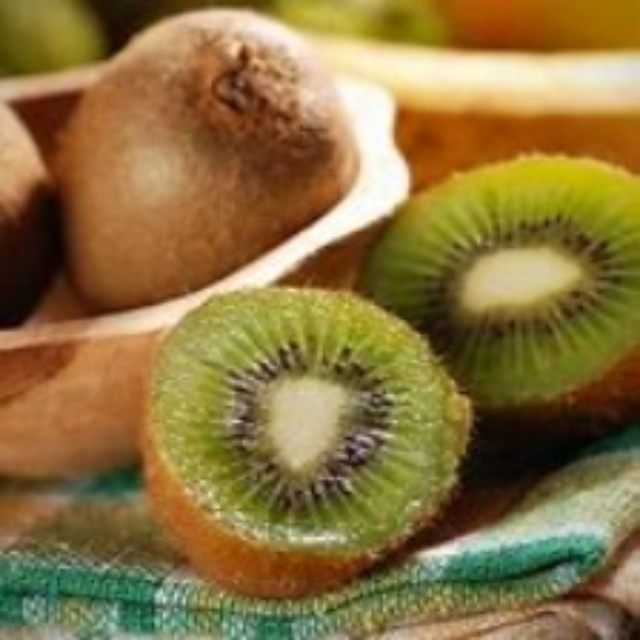kiwi: (141, 293, 452, 597), (62, 18, 346, 312), (370, 147, 639, 432)
